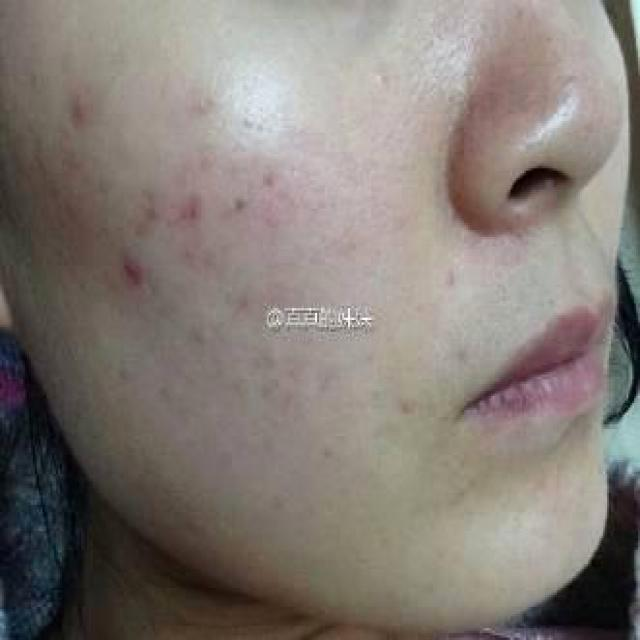Acne: (64, 66, 333, 432)
